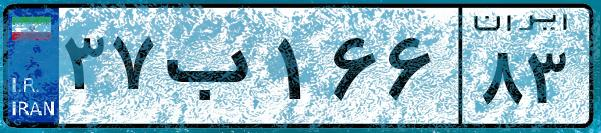1: (270, 28, 330, 110)
3: (57, 26, 110, 100), (525, 38, 570, 115)
6: (385, 28, 445, 110), (330, 28, 385, 110)
7: (110, 28, 158, 98)
8: (475, 38, 525, 113)
ب: (158, 20, 270, 120)
